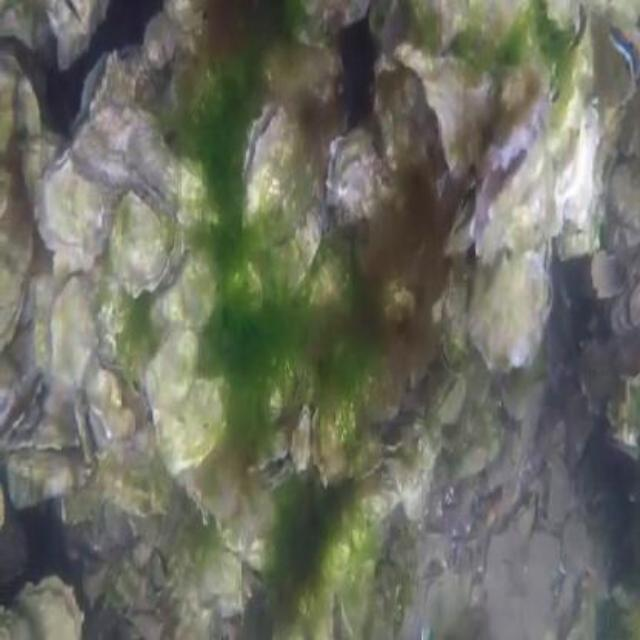Oyster-Closed: (241, 106, 324, 294), (394, 42, 496, 173), (471, 238, 555, 372), (557, 107, 626, 263), (369, 0, 517, 54), (113, 183, 179, 301), (35, 153, 106, 257), (158, 379, 227, 475), (0, 163, 34, 356), (314, 392, 381, 485), (50, 276, 96, 393), (326, 129, 381, 222), (153, 252, 214, 328), (148, 326, 199, 415), (285, 0, 373, 48), (440, 273, 469, 372), (433, 373, 466, 425), (612, 169, 640, 225), (292, 403, 314, 472), (608, 420, 640, 464), (0, 607, 36, 640), (631, 282, 640, 328)
Oyster-Open: (476, 0, 603, 265), (63, 44, 150, 152), (12, 577, 86, 640), (595, 17, 640, 112), (442, 174, 485, 263), (251, 420, 296, 486), (320, 589, 358, 640)
